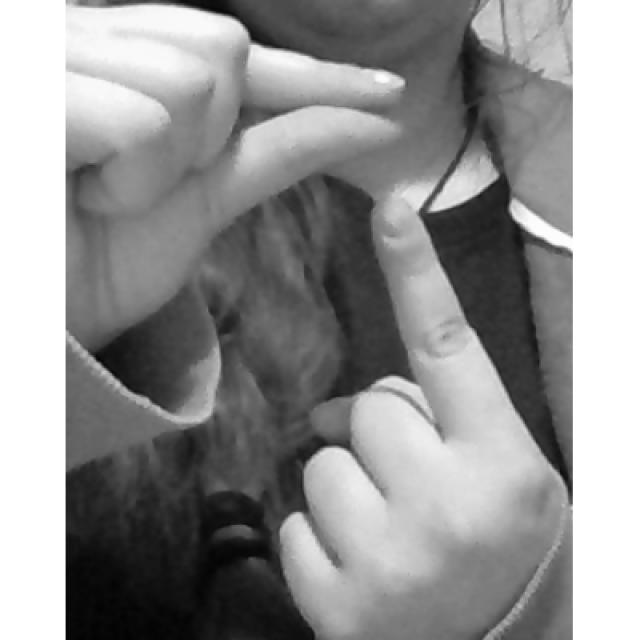I-: (64, 5, 571, 640)
